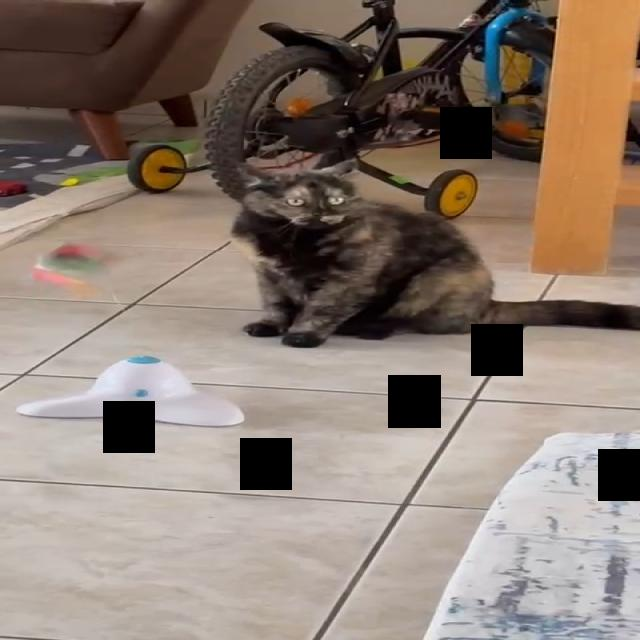authorized: (228, 158, 639, 348)
